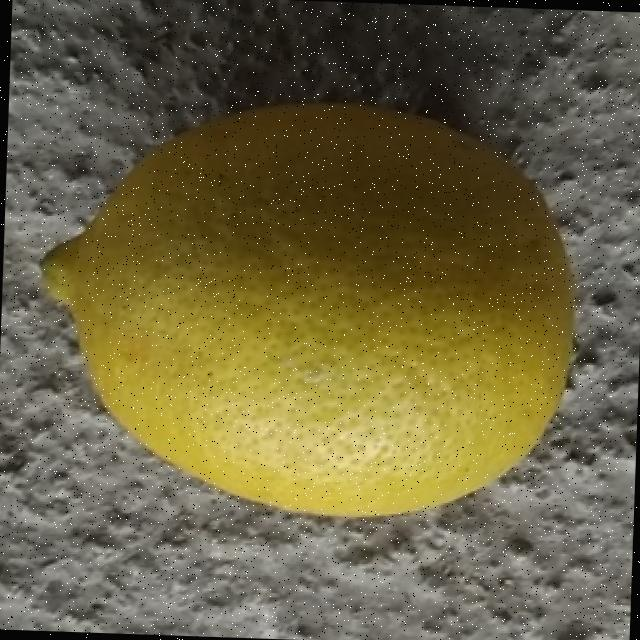Ripe: (28, 90, 582, 528)
